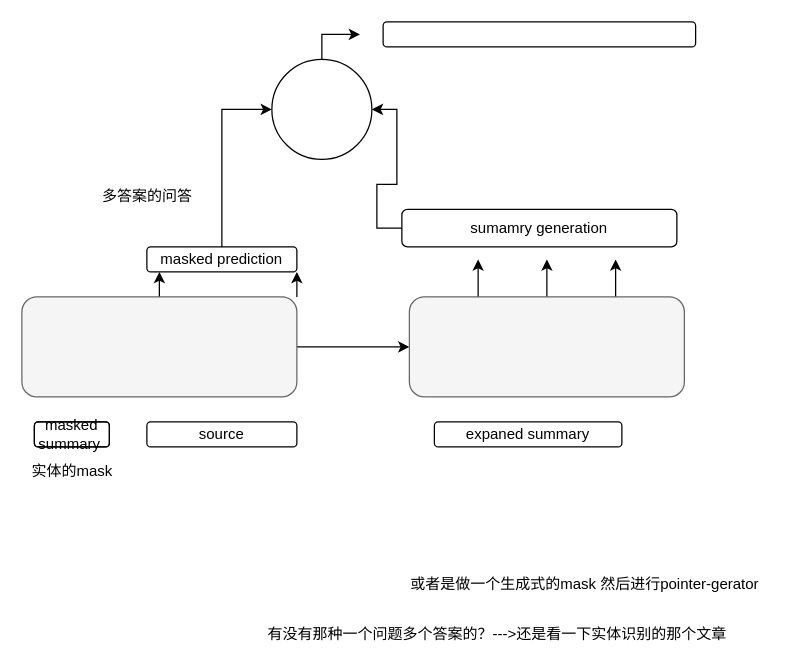
Image size: 788x669. Some labels were removed from this diagram. Each missing label, with the box of its shape:
pointer-generator: (271, 58, 372, 159)
最终的分布: (382, 21, 696, 47)
